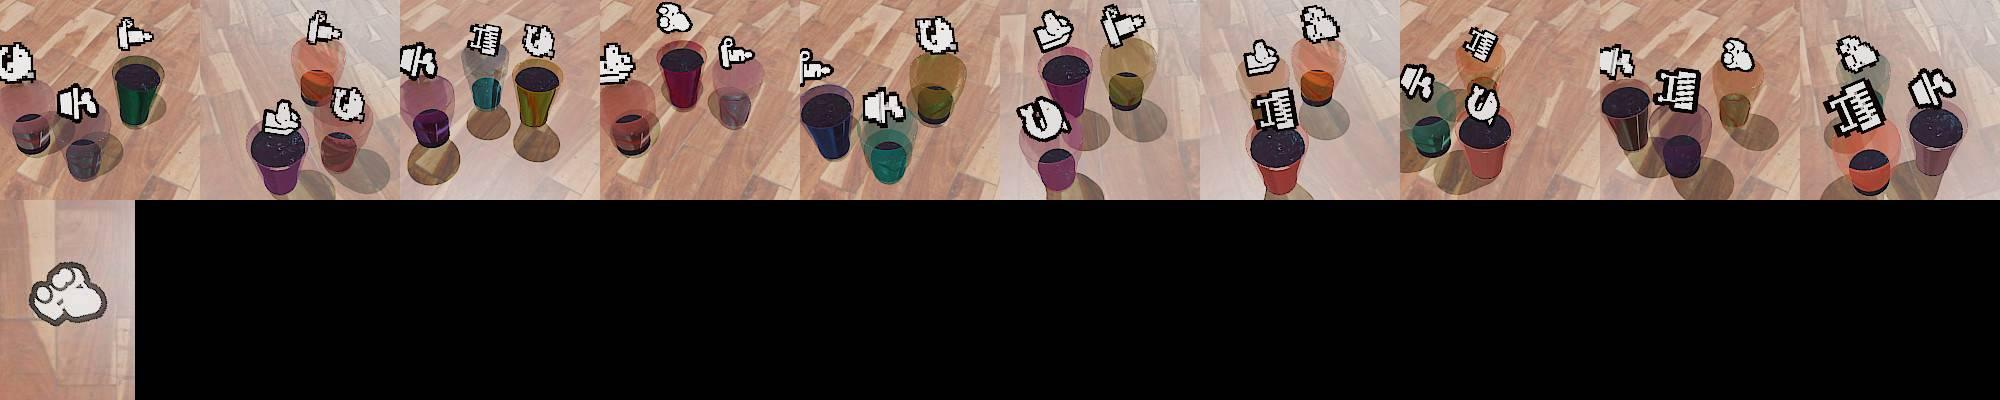icon: (28, 260, 110, 326), (1823, 77, 1886, 137), (1017, 93, 1069, 142), (1653, 66, 1702, 116), (1099, 4, 1147, 51), (1251, 85, 1298, 131), (1908, 68, 1958, 110), (1033, 9, 1076, 55), (861, 87, 907, 128), (55, 83, 101, 123), (913, 15, 958, 55), (1298, 3, 1340, 45), (1835, 35, 1879, 73), (1463, 82, 1502, 124), (599, 42, 636, 86), (0, 41, 37, 85), (1241, 38, 1281, 78), (399, 41, 438, 80), (717, 34, 757, 72), (262, 97, 302, 135), (798, 47, 835, 88), (329, 85, 368, 122), (306, 9, 343, 47), (1463, 25, 1500, 63), (1598, 44, 1636, 81), (467, 21, 503, 59), (116, 16, 154, 52), (521, 23, 557, 60), (1720, 37, 1757, 73), (1400, 62, 1434, 101), (656, 2, 693, 33)
